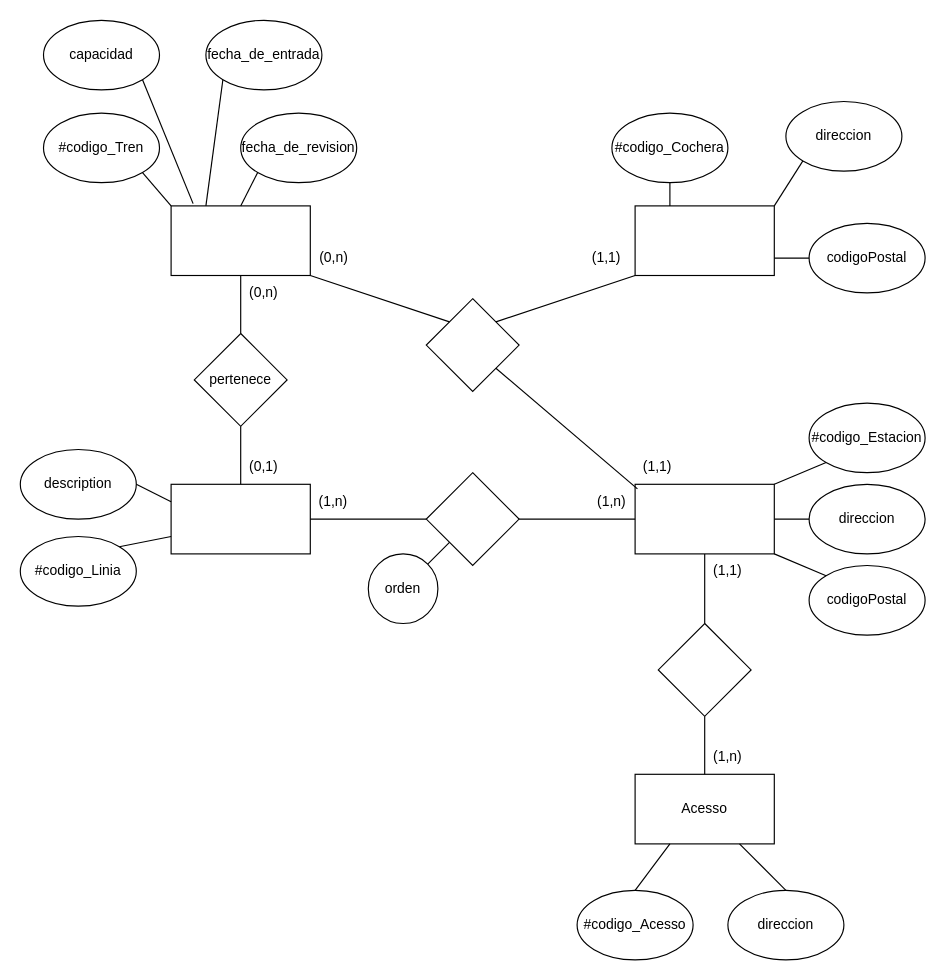
Some shapes in this 945 by 980 pixel diagram are drawn without their labels. Here are the shapes that lost their labels. From the top down, the centre of each, then its label:
At (240,240): "Tren".
At (704,240): "Cochera".
At (472,345): "asignado".
At (240,518): "Linia".
At (472,519): "compuesta".
At (704,518): "Estacion".
At (704,669): "tiene".
